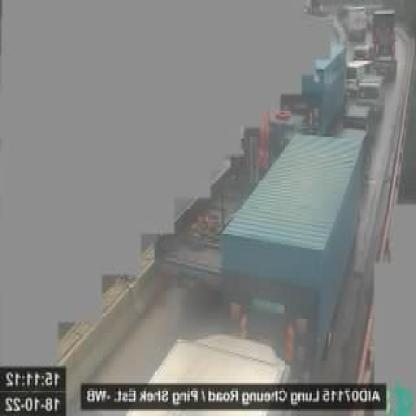Car: (357, 72, 385, 115), (341, 101, 376, 135), (344, 59, 368, 95), (373, 54, 396, 82)
Truck: (211, 134, 370, 382), (150, 112, 308, 294), (282, 44, 346, 131), (372, 9, 396, 56)
